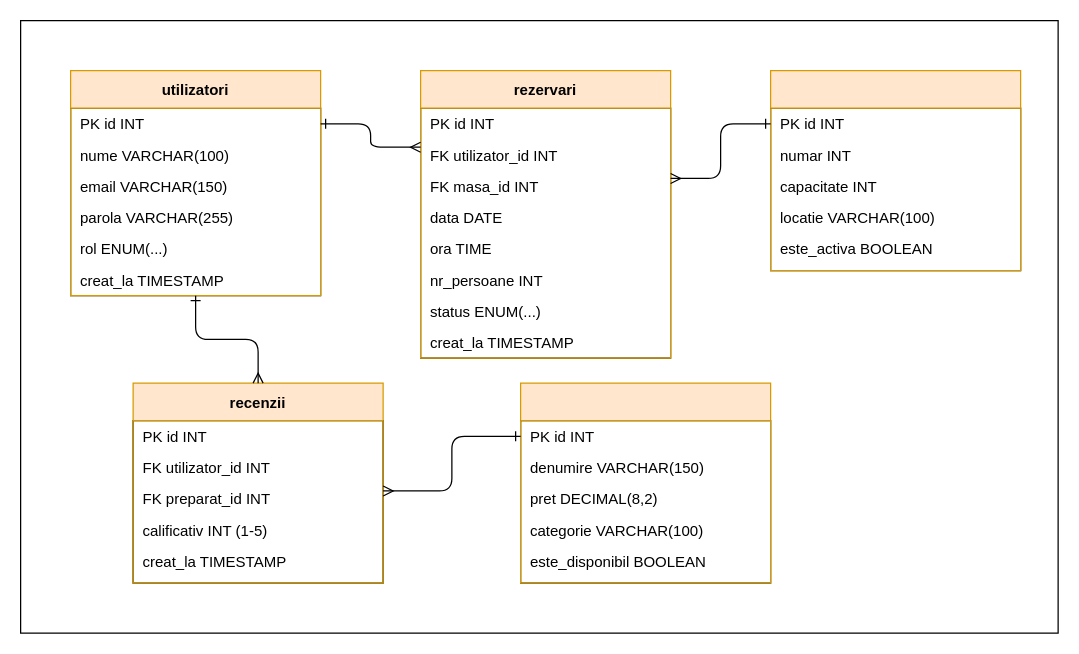
This 1079x654 diagram has some shape labels left out. Each missing label, with the box of its shape:
mese: (769, 69, 1021, 271)
preparate_meniu: (519, 382, 771, 583)
